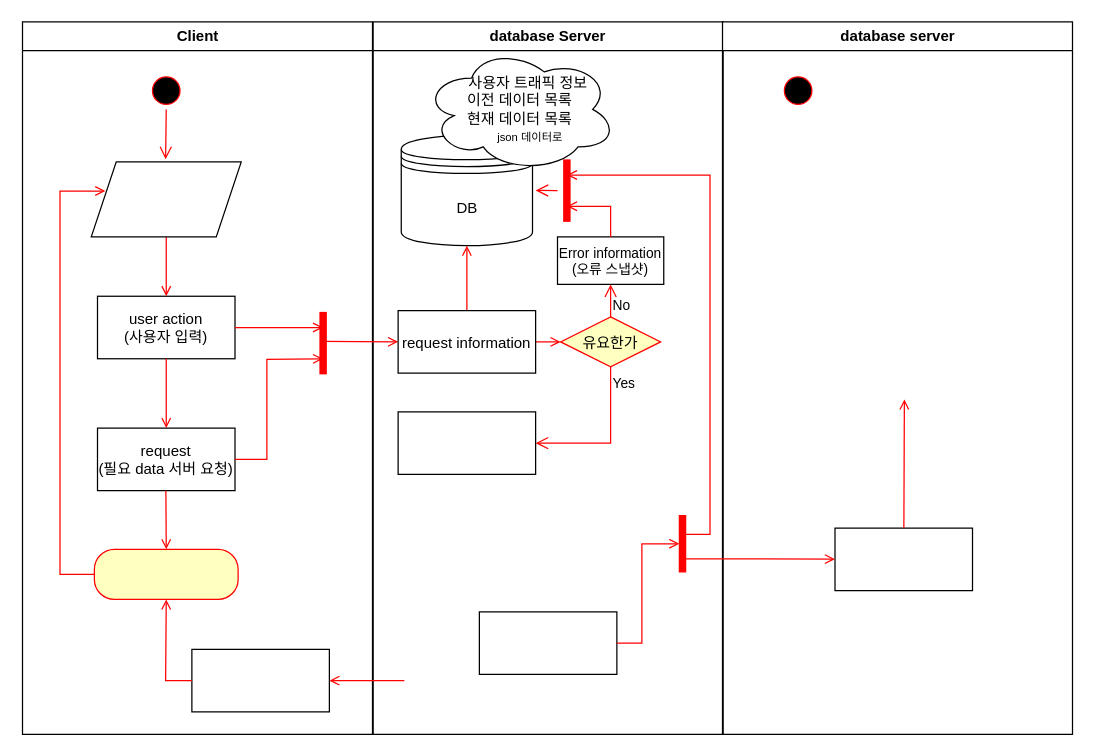
This 1094x756 diagram has some shape labels left out. Here are the shapes that lost their labels. From the top down, the centre of each, then its label:
At [165,199]: "기상/버스/시간".
At [466,442]: "Database call".
At [165,573]: "Offer service".
At [903,559]: "request APIs (공공데이터)".
At [260,680]: "data for client".
